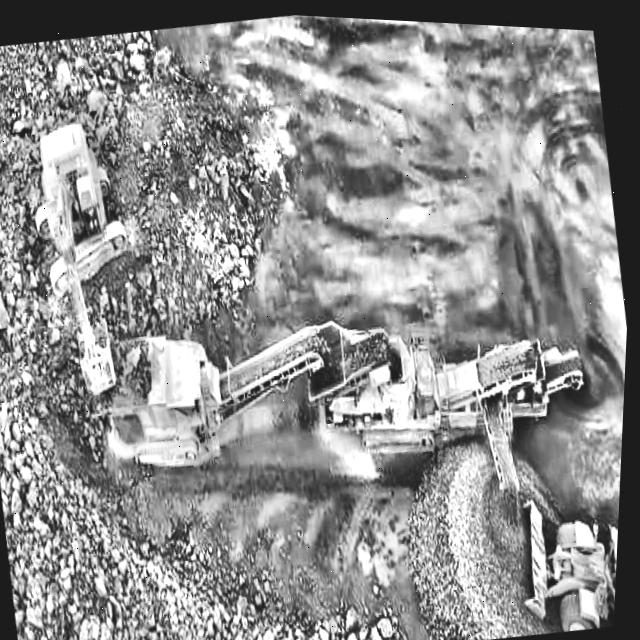buldozerpayloadergrader: (513, 471, 624, 632)
excavator: (11, 109, 162, 407)
